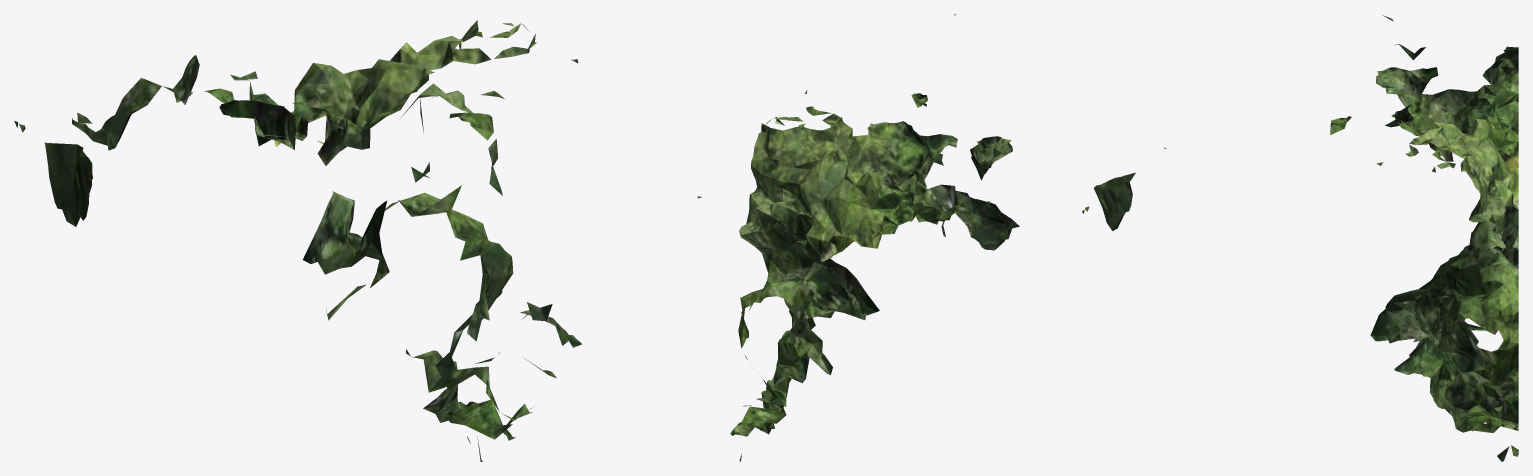
3 views of the same model, side by side, from view 1: azimuth 30°, elevation 25°; view 2: azimuth 150°, elevation 25°; view 3: azimuth 270°, elevation 25° (orthographic). The views are drawn at different scales.
Size of the model in its own units: 26.11 by 24.25 by 26.11.
Materials: 2 (2 with a texture image).
